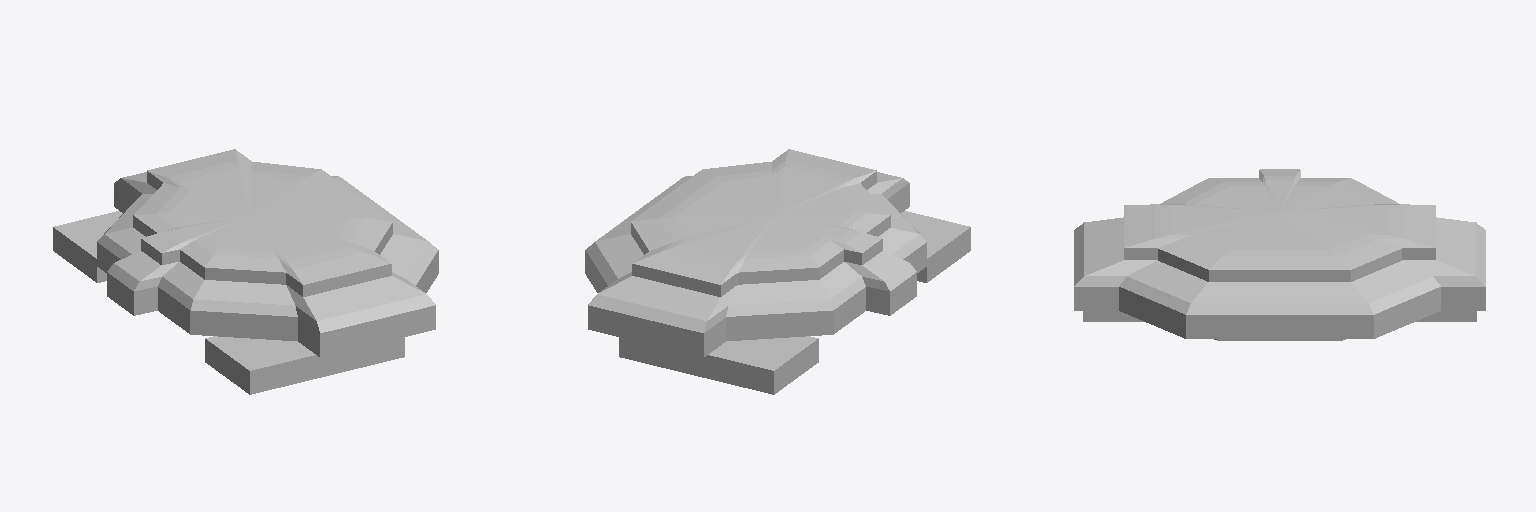
File: Building.obj
The picture shows the model from 3 angles: view 1: azimuth 30°, elevation 25°; view 2: azimuth 150°, elevation 25°; view 3: azimuth 270°, elevation 25°; orthographic projection.
Visible parts, largest first — view 1: Plane_Plane.001; view 2: Plane_Plane.001; view 3: Plane_Plane.001.
Part boxes in pixels (left/top/right/bottom): Plane_Plane.001: left=53, top=149, right=438, bottom=394; Plane_Plane.001: left=585, top=149, right=970, bottom=394; Plane_Plane.001: left=1074, top=169, right=1485, bottom=340.
Size of the model in its own units: 35 by 10.2 by 46.